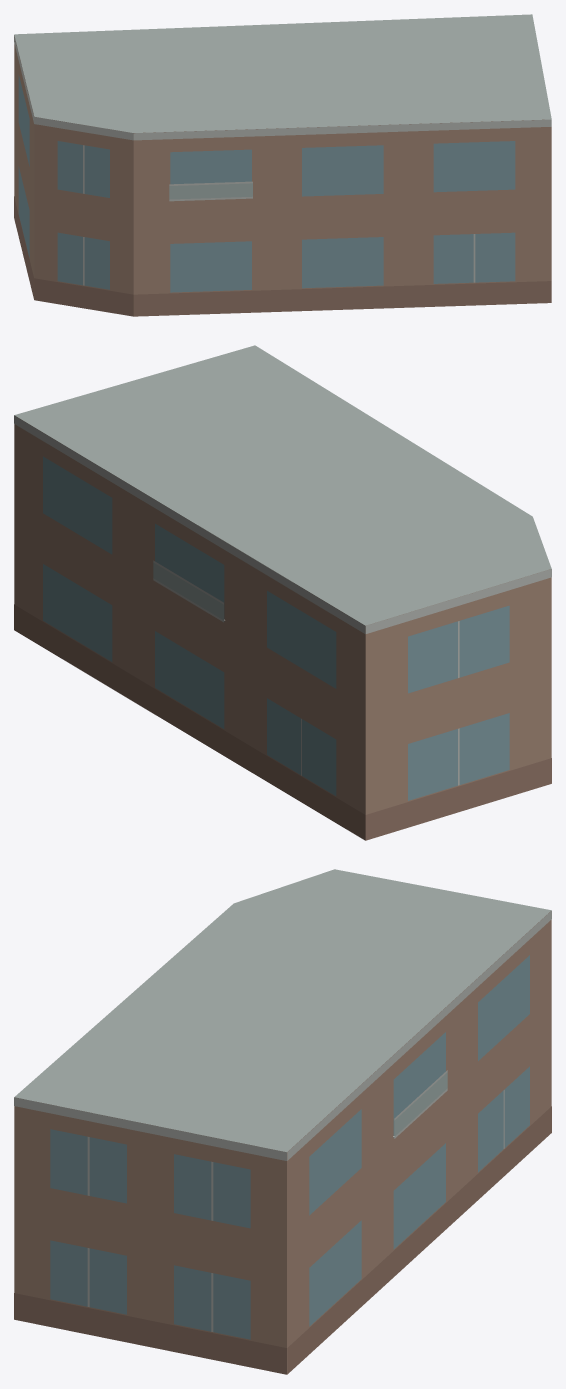
Rendered from survey-upis-32778740.glb.
3 renders of one model, top to bottom at view 1: azimuth 30°, elevation 25°; view 2: azimuth 150°, elevation 25°; view 3: azimuth 270°, elevation 25°, orthographic. The views are drawn at different scales.
Visible parts, largest first — view 1: survey-upis-32778740.tmp; view 2: survey-upis-32778740.tmp; view 3: survey-upis-32778740.tmp.
Part boxes in pixels (bbox=[...]): survey-upis-32778740.tmp: bbox=[14, 14, 551, 316]; survey-upis-32778740.tmp: bbox=[14, 345, 551, 840]; survey-upis-32778740.tmp: bbox=[14, 869, 551, 1374].
Size of the model in its own units: 16.66 by 6.1 by 13.37.
